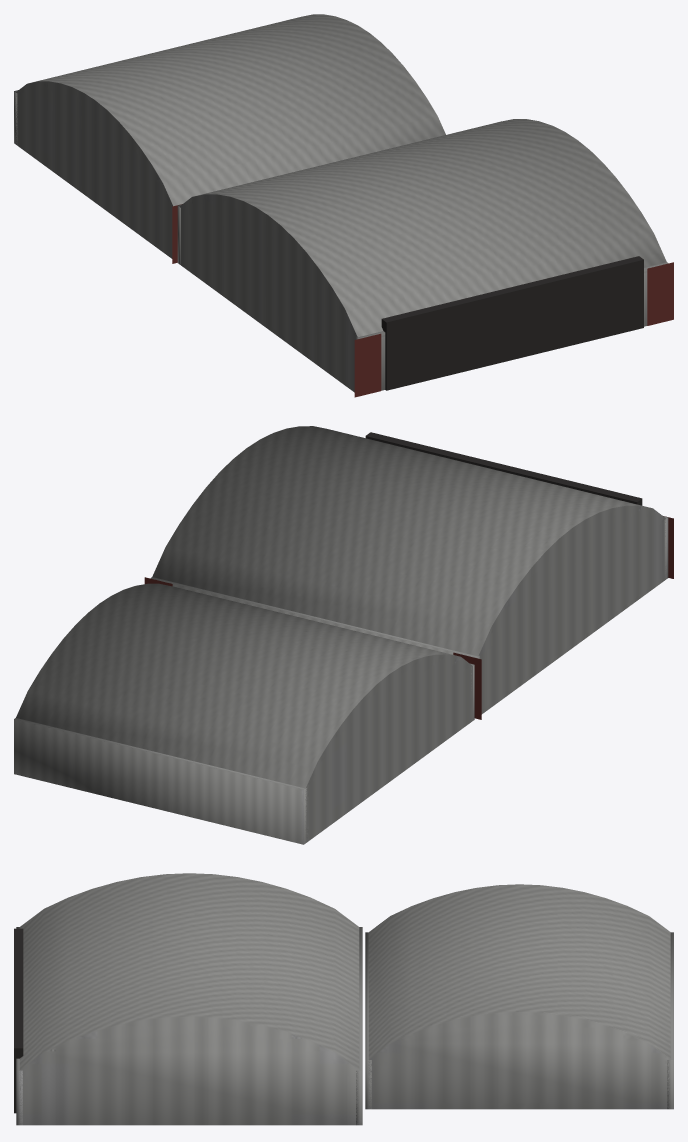
The model's file is sdsc_hangar_midfield.leve.glb.
3 renders of one model, top to bottom at view 1: azimuth 30°, elevation 25°; view 2: azimuth 150°, elevation 25°; view 3: azimuth 270°, elevation 25°, orthographic. The views are drawn at different scales.
Visible parts, largest first — view 1: sdsc_hangar_midfield; view 2: sdsc_hangar_midfield; view 3: sdsc_hangar_midfield.
Boxes of the visible parts, left/top/right/bottom form: sdsc_hangar_midfield: left=14, top=14, right=673, bottom=397; sdsc_hangar_midfield: left=14, top=426, right=673, bottom=844; sdsc_hangar_midfield: left=14, top=873, right=673, bottom=1125.
Size of the model in its own units: 37.2 by 12.7 by 69.95.
4 materials, 1 textured.
